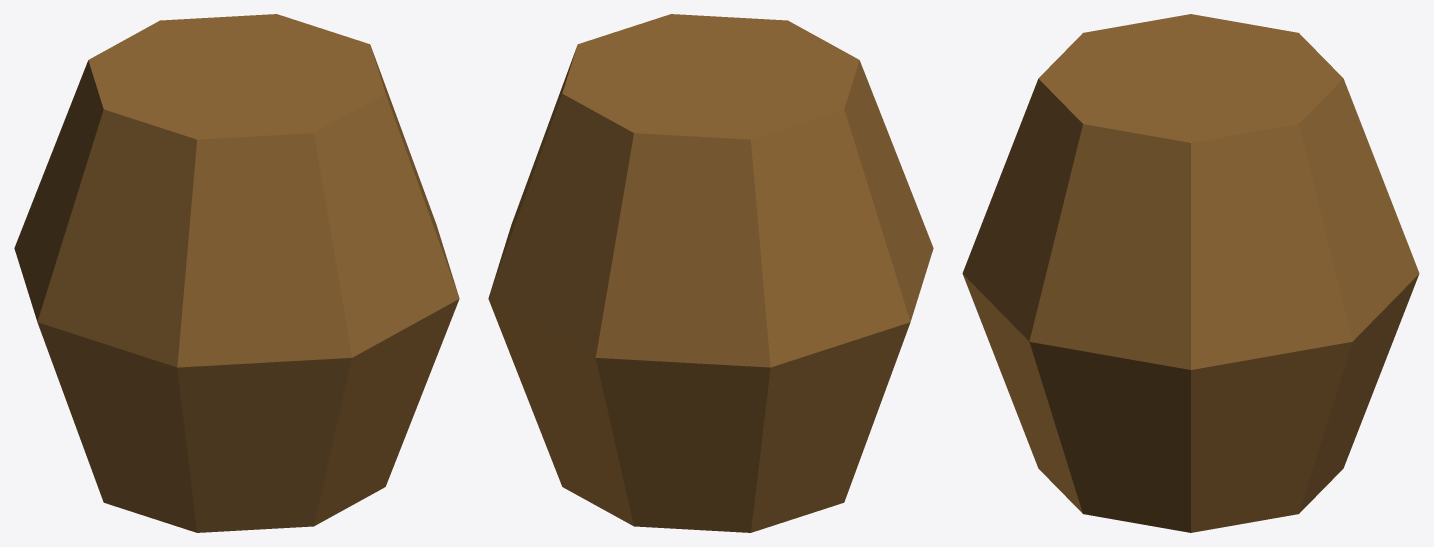
Rendered from barrel-low.fbx.
The picture shows the model from 3 angles, left to right: view 1: azimuth 30°, elevation 25°; view 2: azimuth 150°, elevation 25°; view 3: azimuth 270°, elevation 25°; orthographic projection.
Parts seen in each view (by area): view 1: barrel low; view 2: barrel low; view 3: barrel low.
Boxes of the visible parts, box(x1,y1,x2,y2) form: barrel low: box(14, 14, 459, 532); barrel low: box(488, 14, 933, 532); barrel low: box(962, 14, 1419, 532).
Size of the model in its own units: 212 by 212 by 200.
